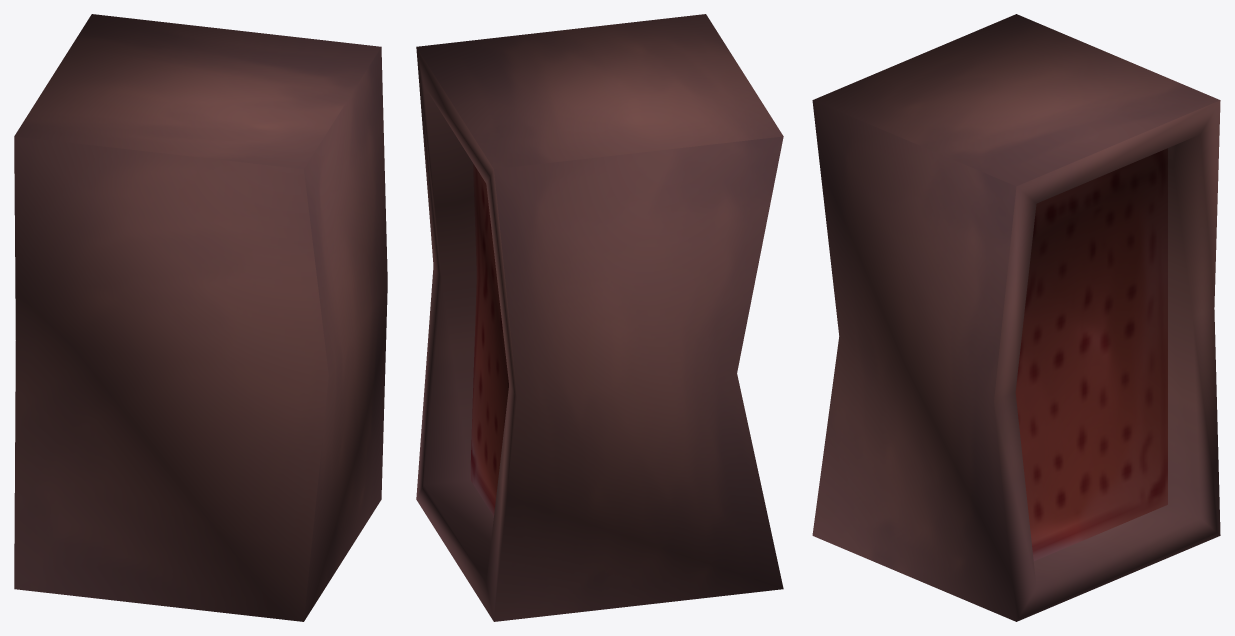
The model's file is CaixaDeSom.fbx.
3 views of the same model, side by side, from view 1: azimuth 30°, elevation 25°; view 2: azimuth 150°, elevation 25°; view 3: azimuth 270°, elevation 25° (orthographic). The views are drawn at different scales.
Parts seen in each view (by area): view 1: CaixaDeSom; view 2: CaixaDeSom; view 3: CaixaDeSom.
Boxes of the visible parts, x1=… form: CaixaDeSom: x1=14, y1=14, x2=387, y2=621; CaixaDeSom: x1=416, y1=14, x2=783, y2=621; CaixaDeSom: x1=812, y1=14, x2=1220, y2=621.
Size of the model in its own units: 91.68 by 91.68 by 108.
